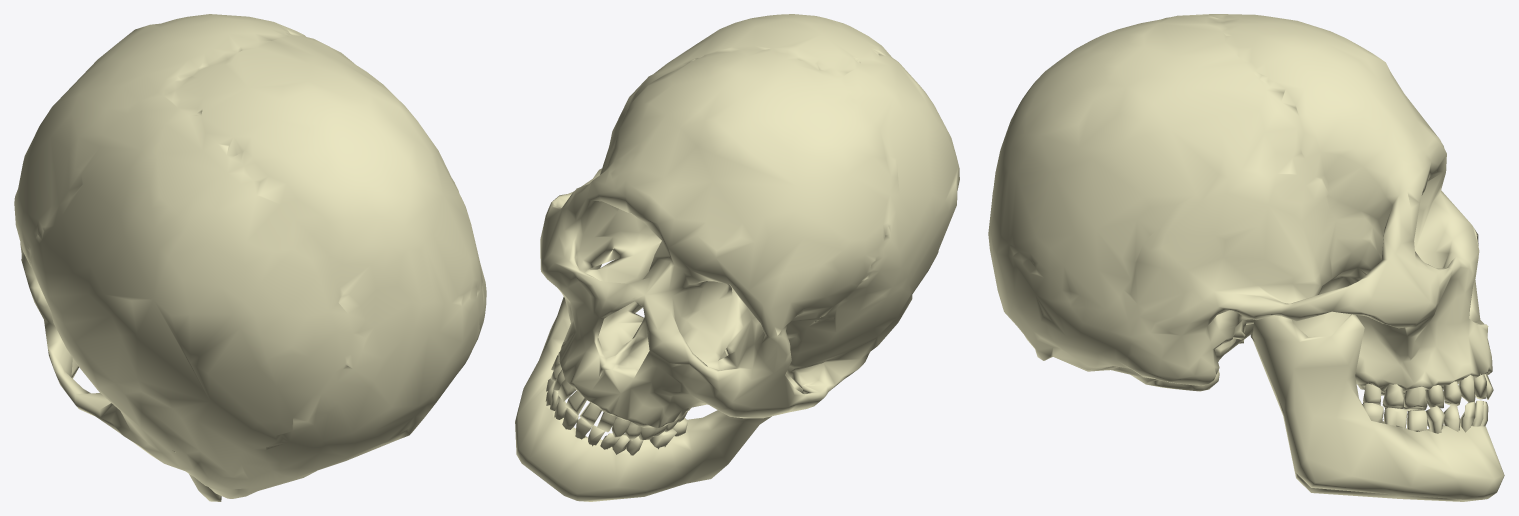
File: skeletonHead.obj
The picture shows the model from 3 angles, left to right: view 1: azimuth 30°, elevation 25°; view 2: azimuth 150°, elevation 25°; view 3: azimuth 270°, elevation 25°; orthographic projection. The views are drawn at different scales.
Parts seen in each view (by area): view 1: Cube.003_Cube.041; view 2: Cube.003_Cube.041; view 3: Cube.003_Cube.041.
Boxes of the visible parts, bbox=[...] form: Cube.003_Cube.041: bbox=[14, 14, 486, 501]; Cube.003_Cube.041: bbox=[515, 14, 959, 501]; Cube.003_Cube.041: bbox=[988, 14, 1504, 501].
Size of the model in its own units: 0.3448 by 0.407 by 0.4246.
1 material, 1 textured.
